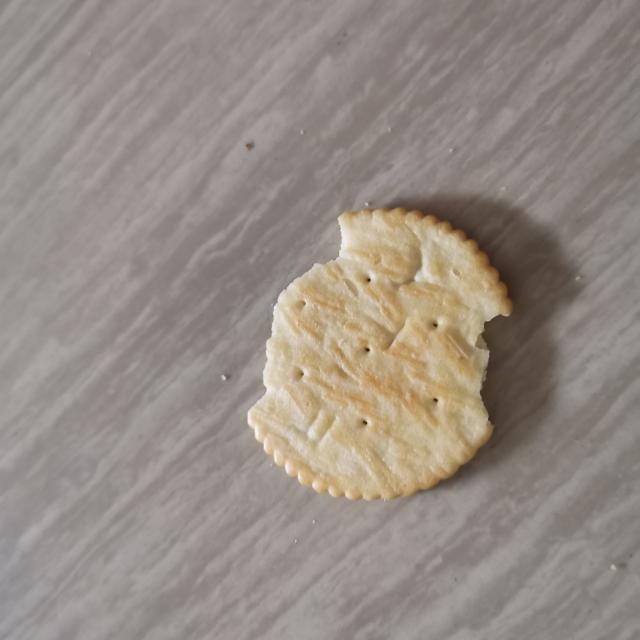Broken: (247, 205, 513, 502)
